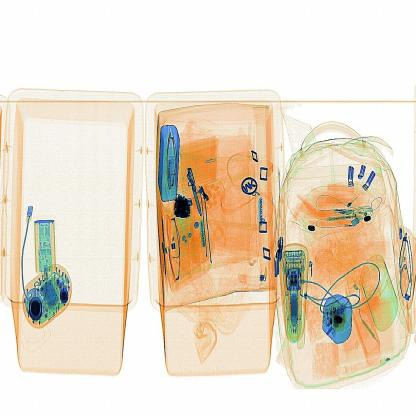scissors: (169, 183, 200, 227)
